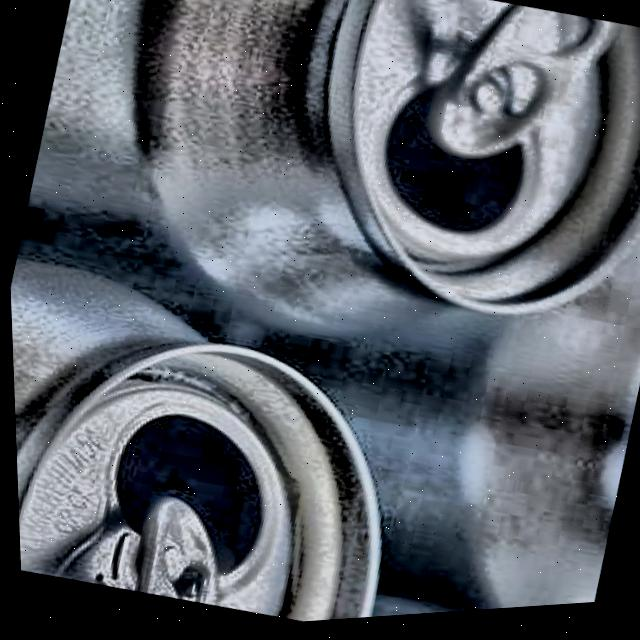metal: (0, 0, 640, 449), (107, 111, 640, 635), (7, 225, 444, 640)
